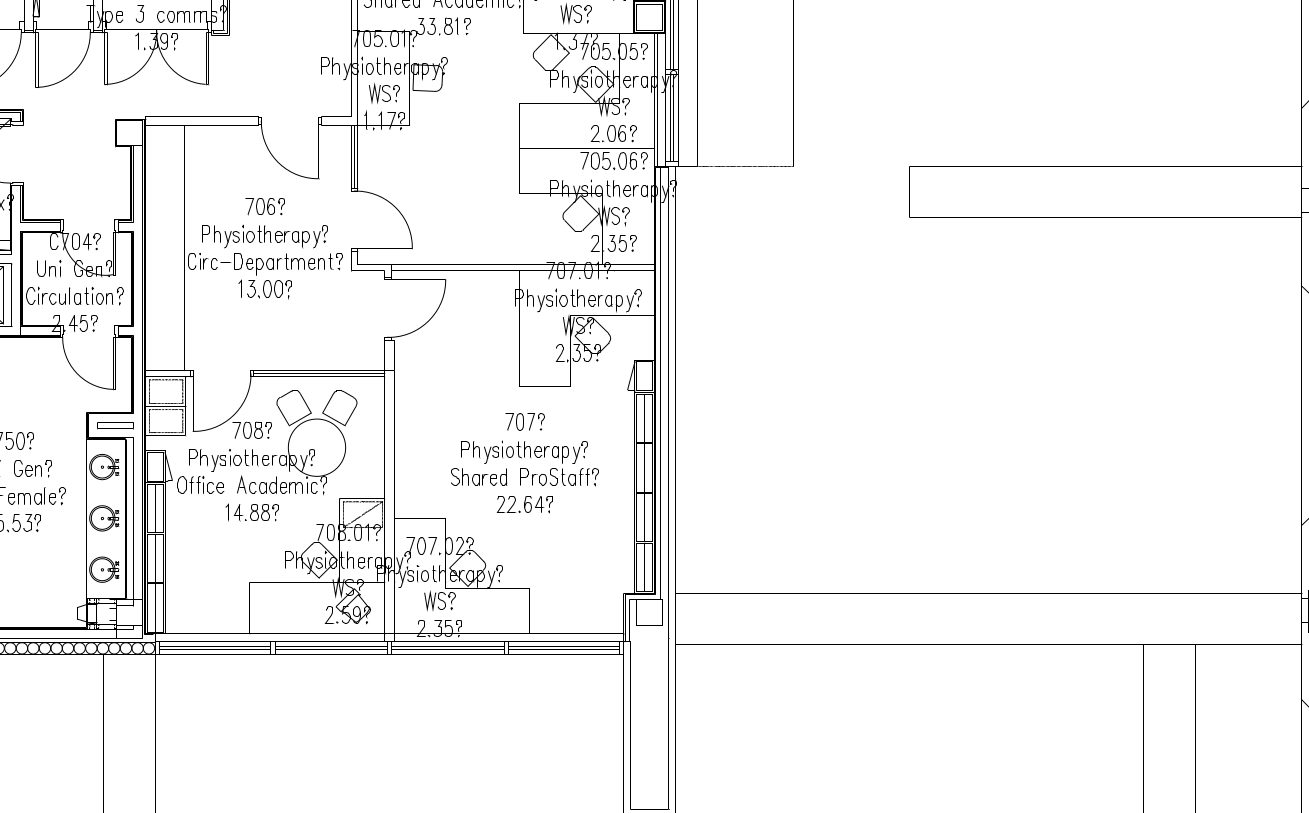door: (97, 30, 223, 102), (352, 183, 421, 254), (390, 273, 459, 344), (27, 31, 96, 102), (189, 378, 253, 434), (58, 338, 122, 394), (55, 232, 119, 288), (259, 124, 323, 180)
